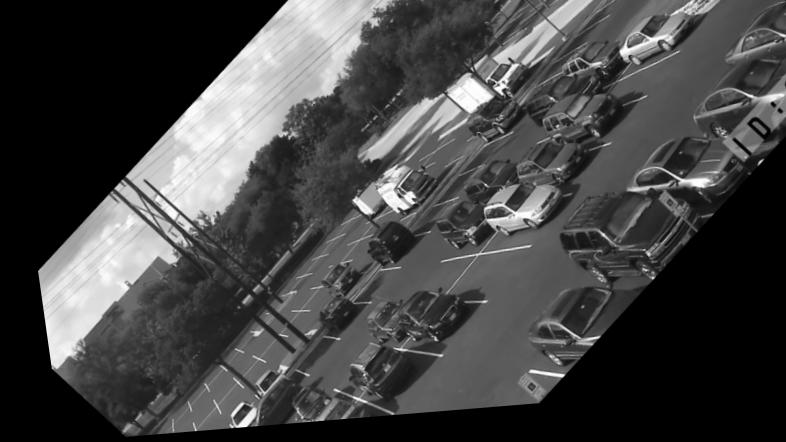empty: (437, 252, 522, 303), (454, 373, 550, 416), (603, 67, 675, 109), (281, 338, 331, 381), (458, 142, 504, 177), (576, 7, 616, 44), (428, 175, 469, 210), (401, 267, 452, 294), (346, 276, 389, 304), (558, 34, 596, 65), (316, 353, 350, 387), (204, 383, 235, 418), (532, 62, 567, 92), (408, 148, 445, 176), (406, 207, 440, 236), (245, 339, 279, 366), (226, 362, 256, 391), (507, 134, 539, 161), (269, 313, 303, 338), (220, 355, 247, 384), (178, 398, 204, 428), (257, 313, 288, 338), (183, 407, 211, 433), (335, 240, 364, 265), (199, 376, 224, 405), (207, 349, 235, 374), (354, 217, 384, 240), (238, 336, 266, 359), (192, 365, 214, 392), (277, 292, 305, 313), (336, 224, 363, 245), (290, 292, 315, 314), (319, 246, 344, 268), (295, 271, 322, 290), (269, 279, 299, 296), (175, 385, 197, 408), (222, 335, 247, 355), (325, 221, 349, 240), (291, 260, 319, 276), (161, 405, 178, 429), (309, 241, 333, 257), (347, 250, 362, 273), (296, 314, 311, 331), (164, 421, 181, 435), (192, 421, 211, 433), (144, 422, 160, 436)
occupied: (551, 206, 705, 288), (506, 294, 633, 365), (616, 147, 753, 203), (688, 70, 786, 144), (475, 188, 557, 249), (336, 346, 411, 405), (385, 295, 462, 348), (537, 101, 614, 154), (616, 23, 692, 76), (723, 14, 786, 74), (510, 149, 587, 194), (462, 96, 522, 152), (368, 169, 432, 220), (522, 83, 584, 131), (358, 226, 416, 274), (453, 165, 510, 212), (427, 207, 479, 257), (558, 50, 619, 89), (297, 397, 365, 426), (356, 307, 396, 349), (308, 299, 351, 336), (311, 265, 352, 302), (243, 372, 283, 407), (281, 390, 313, 424), (218, 404, 254, 431)
